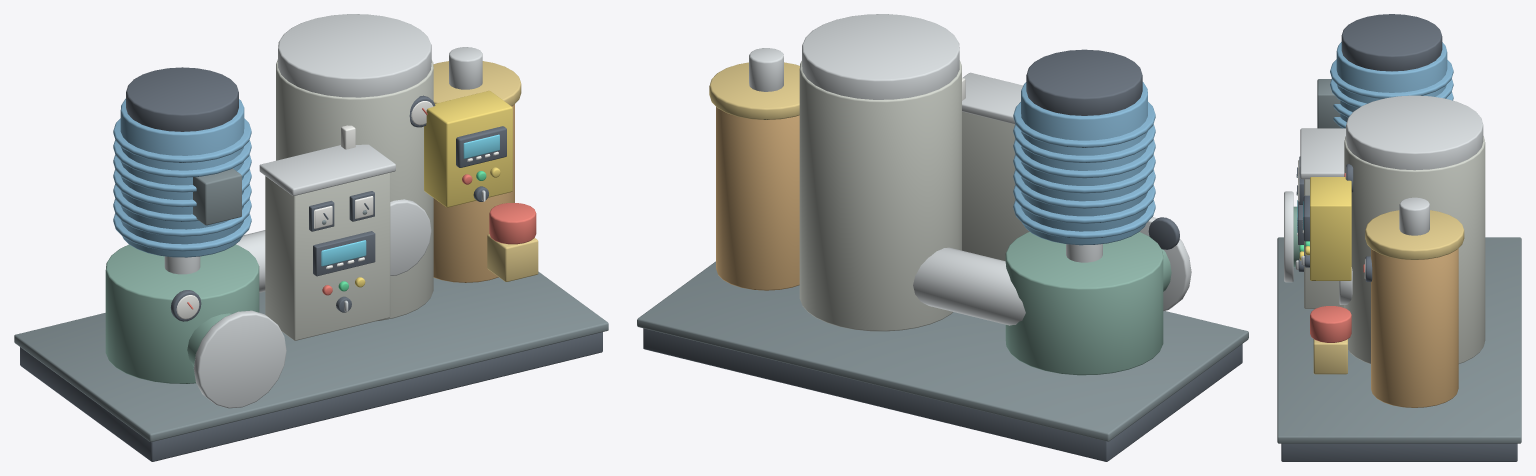
The model's file is ballast_ows_skid.glb.
3 views of the same model, side by side, from view 1: azimuth 30°, elevation 25°; view 2: azimuth 150°, elevation 25°; view 3: azimuth 270°, elevation 25° (orthographic). The views are drawn at different scales.
Parts seen in each view (by area): view 1: Ballast_Pump_Casing__Iron, 440V_Drive_Motor, Control_Panel, Ballast_Pump_Casing__MotorGreen, OWS_Pressure_Vessel__Steel, OWS_Pressure_Vessel, Ballast_Pump_Casing, Ballast_Pump_Casing__Steel, Oil_Content_Monitor, 440V_Drive_Motor__DarkPlinth, Coalescer_Filter, Control_Panel__Steel (+12 smaller); view 2: Ballast_Pump_Casing__Iron, OWS_Pressure_Vessel, Ballast_Pump_Casing__MotorGreen, 440V_Drive_Motor, Coalescer_Filter, Ballast_Pump_Casing, OWS_Pressure_Vessel__Steel, Ballast_Pump_Casing__Steel, Control_Panel, 440V_Drive_Motor__DarkPlinth, Coalescer_Filter__GoldBrass, Control_Panel__Steel (+2 smaller); view 3: Ballast_Pump_Casing__Iron, OWS_Pressure_Vessel, Coalescer_Filter, OWS_Pressure_Vessel__Steel, 440V_Drive_Motor__DarkPlinth, 440V_Drive_Motor, Ballast_Pump_Casing, Oil_Content_Monitor, Coalescer_Filter__GoldBrass, Control_Panel__Steel, Oil_Content_Monitor__StatusRed, Control_Panel (+7 smaller).
Boxes of the visible parts, x1,y1,x2,y2 form: Ballast_Pump_Casing__Iron: (14,271,608,442); 440V_Drive_Motor: (113,98,251,257); Control_Panel: (265,172,390,340); Ballast_Pump_Casing__MotorGreen: (105,244,259,383); OWS_Pressure_Vessel__Steel: (278,14,431,275); OWS_Pressure_Vessel: (276,59,433,321); Ballast_Pump_Casing: (20,290,602,461); Ballast_Pump_Casing__Steel: (193,230,286,408); Oil_Content_Monitor: (424,90,512,207); 440V_Drive_Motor__DarkPlinth: (126,67,238,131); Coalescer_Filter: (433,104,514,282); Control_Panel__Steel: (259,144,395,311); Ballast_Pump_Casing__Iron: (637,261,1248,441); OWS_Pressure_Vessel: (799,60,961,331); Ballast_Pump_Casing__MotorGreen: (1005,231,1171,375); 440V_Drive_Motor: (1013,82,1155,245); Coalescer_Filter: (716,107,799,290); Ballast_Pump_Casing: (643,217,1242,461); OWS_Pressure_Vessel__Steel: (802,14,959,99); Ballast_Pump_Casing__Steel: (913,217,1191,325); Control_Panel: (962,111,1029,261); 440V_Drive_Motor__DarkPlinth: (1026,49,1142,115); Coalescer_Filter__GoldBrass: (709,62,799,119); Control_Panel__Steel: (962,72,1023,124); Ballast_Pump_Casing__Iron: (1277,237,1521,443); OWS_Pressure_Vessel: (1344,136,1485,363); Coalescer_Filter: (1371,248,1458,407); OWS_Pressure_Vessel__Steel: (1339,95,1483,304); 440V_Drive_Motor__DarkPlinth: (1341,14,1442,71); 440V_Drive_Motor: (1330,42,1453,128); Ballast_Pump_Casing: (1281,443,1517,461); Oil_Content_Monitor: (1305,177,1351,280); Coalescer_Filter__GoldBrass: (1365,210,1464,259); Control_Panel__Steel: (1295,128,1345,269); Oil_Content_Monitor__StatusRed: (1310,306,1351,342); Control_Panel: (1304,179,1344,308).
Bounding box in the file's own units: 1.24 × 0.7855 × 0.64.
